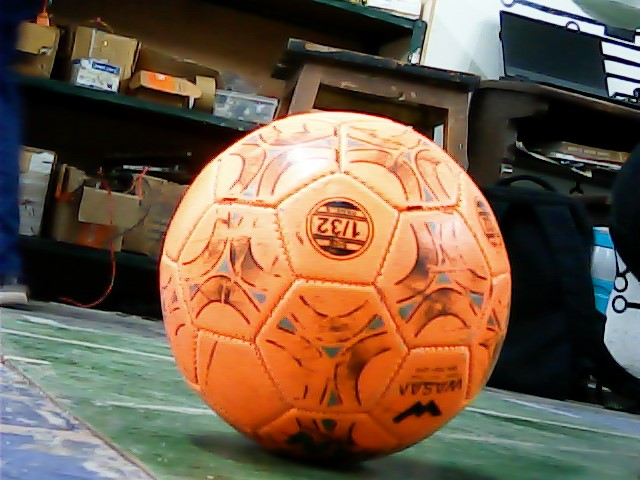Orange_ball: (137, 103, 537, 468)
